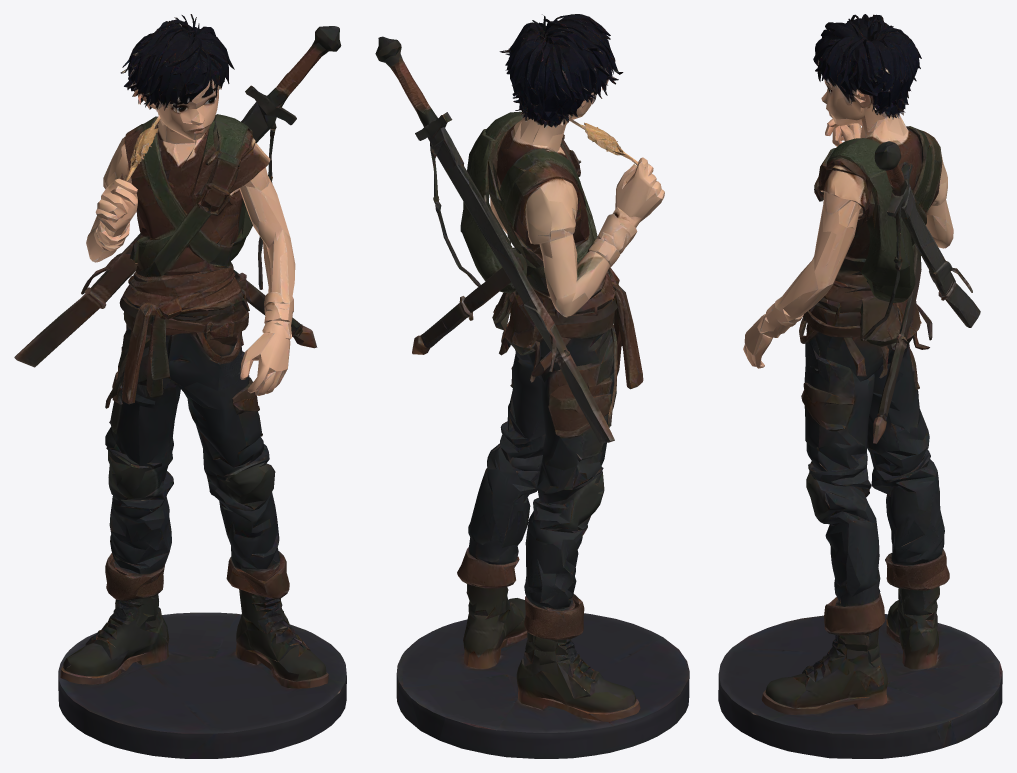
Rendered from jet.glb.
The picture shows the model from 3 angles, left to right: view 1: azimuth 30°, elevation 25°; view 2: azimuth 150°, elevation 25°; view 3: azimuth 270°, elevation 25°; orthographic projection. The views are drawn at different scales.
Size of the model in its own units: 0.8188 by 1.91 by 0.7274.
1 material, 1 textured.
